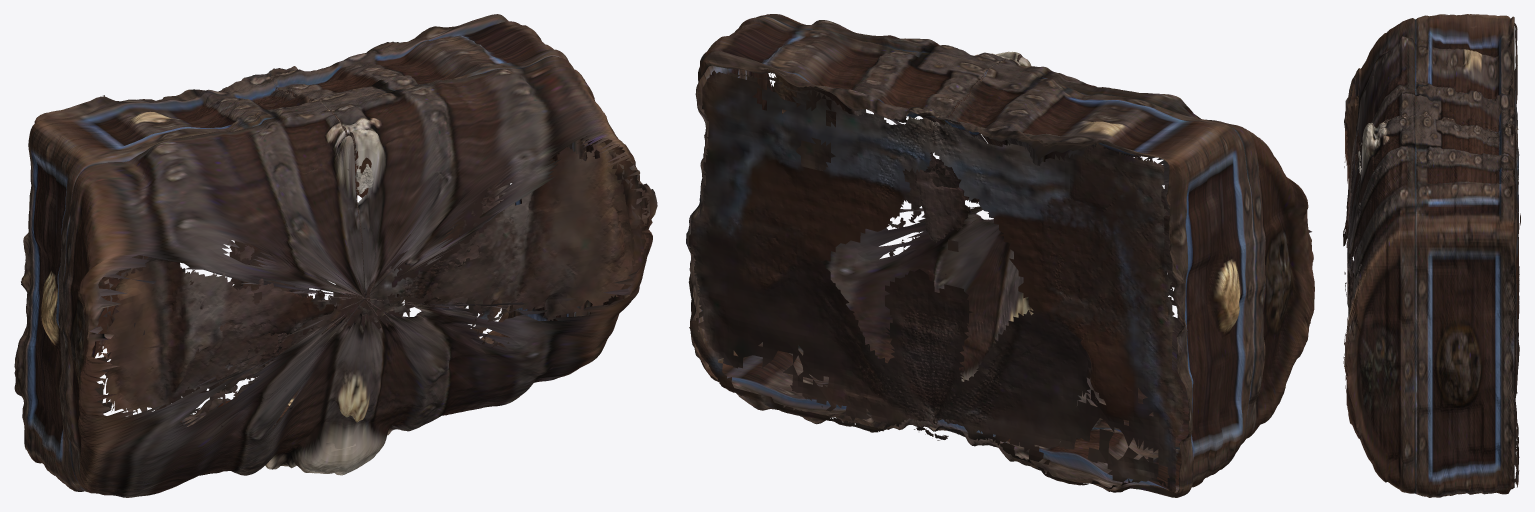
The model's file is mesh_inpaint.glb.
The picture shows the model from 3 angles, left to right: view 1: azimuth 30°, elevation 25°; view 2: azimuth 150°, elevation 25°; view 3: azimuth 270°, elevation 25°; orthographic projection. The views are drawn at different scales.
Parts seen in each view (by area): view 1: ipn, fill; view 2: fill, ipn; view 3: ipn, fill.
Part boxes in pixels (box(x1,y1,x2,y2)): ipn: box(14, 14, 657, 497); fill: box(70, 43, 649, 451); fill: box(688, 34, 1184, 493); ipn: box(686, 14, 1314, 497); ipn: box(1344, 14, 1514, 497); fill: box(1343, 23, 1520, 487).
Size of the model in its own units: 1.96 by 1.21 by 0.6123.
Materials: 2 (1 with a texture image).
